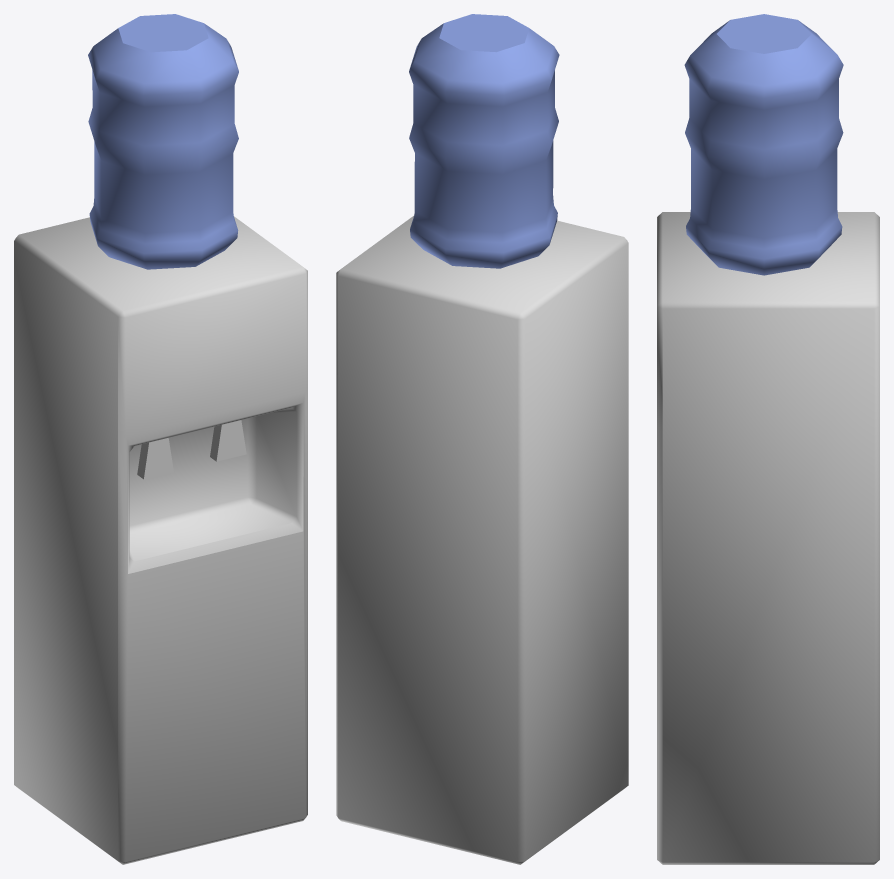
The model's file is aquaservice.fbx.
The picture shows the model from 3 angles, left to right: view 1: azimuth 30°, elevation 25°; view 2: azimuth 150°, elevation 25°; view 3: azimuth 270°, elevation 25°; orthographic projection. The views are drawn at different scales.
Parts seen in each view (by area): view 1: Aquaservice; view 2: Aquaservice; view 3: Aquaservice.
Part boxes in pixels (x1=…): Aquaservice: x1=14, y1=14, x2=307, y2=864; Aquaservice: x1=336, y1=14, x2=628, y2=864; Aquaservice: x1=657, y1=14, x2=879, y2=864.
Bounding box in the file's own units: 55.64 × 217 × 55.64.
